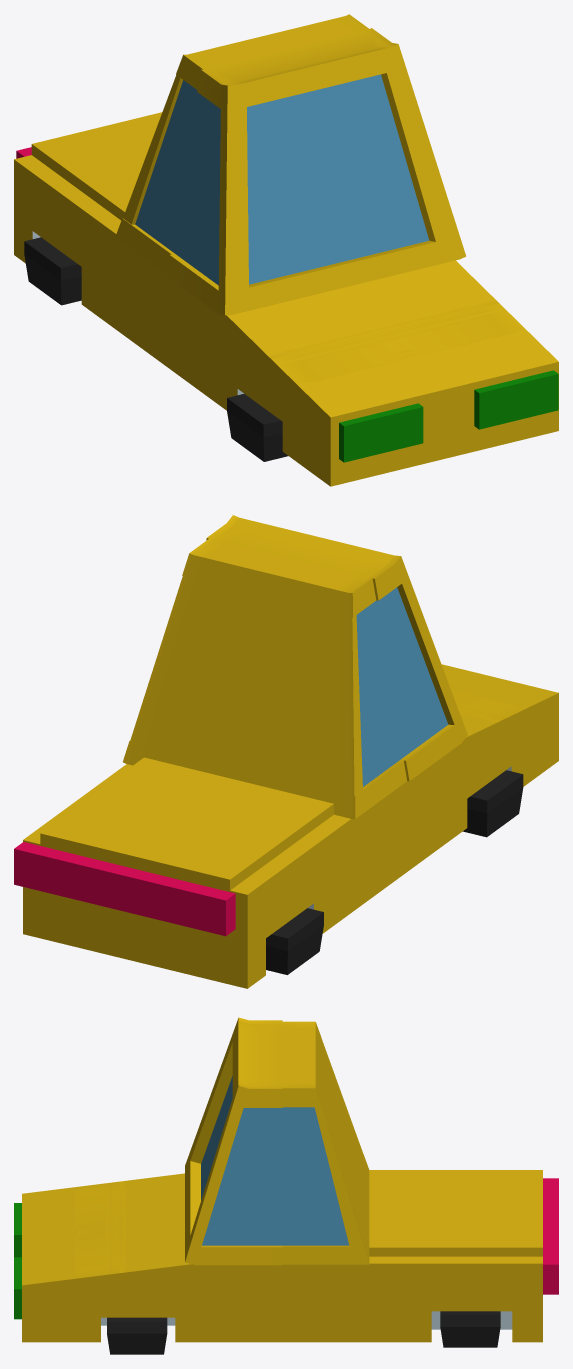
File: low-poly-car.gltf
3 renders of one model, top to bottom at view 1: azimuth 30°, elevation 25°; view 2: azimuth 150°, elevation 25°; view 3: azimuth 270°, elevation 25°, orthographic. The views are drawn at different scales.
Parts seen in each view (by area): view 1: Cube_3, Cube.002_4, Plane.001_6; view 2: Cube_3, Cube.003_5, Plane.001_6; view 3: Cube_3, Plane.001_6, Cube.003_5, Cube.002_4.
Part boxes in pixels (bbox=[...]): Cube_3: bbox=[14, 14, 558, 486]; Cube.002_4: bbox=[339, 370, 558, 462]; Plane.001_6: bbox=[24, 237, 287, 461]; Cube_3: bbox=[23, 515, 558, 988]; Cube.003_5: bbox=[14, 842, 235, 936]; Plane.001_6: bbox=[266, 770, 523, 974]; Cube_3: bbox=[22, 1017, 542, 1342]; Plane.001_6: bbox=[107, 1311, 500, 1354]; Cube.003_5: bbox=[543, 1178, 558, 1294]; Cube.002_4: bbox=[14, 1203, 21, 1319].
Size of what is drawn, in the model's own units: 2.77 by 3.23 by 6.28.
Materials: 4 (2 with a texture image).
